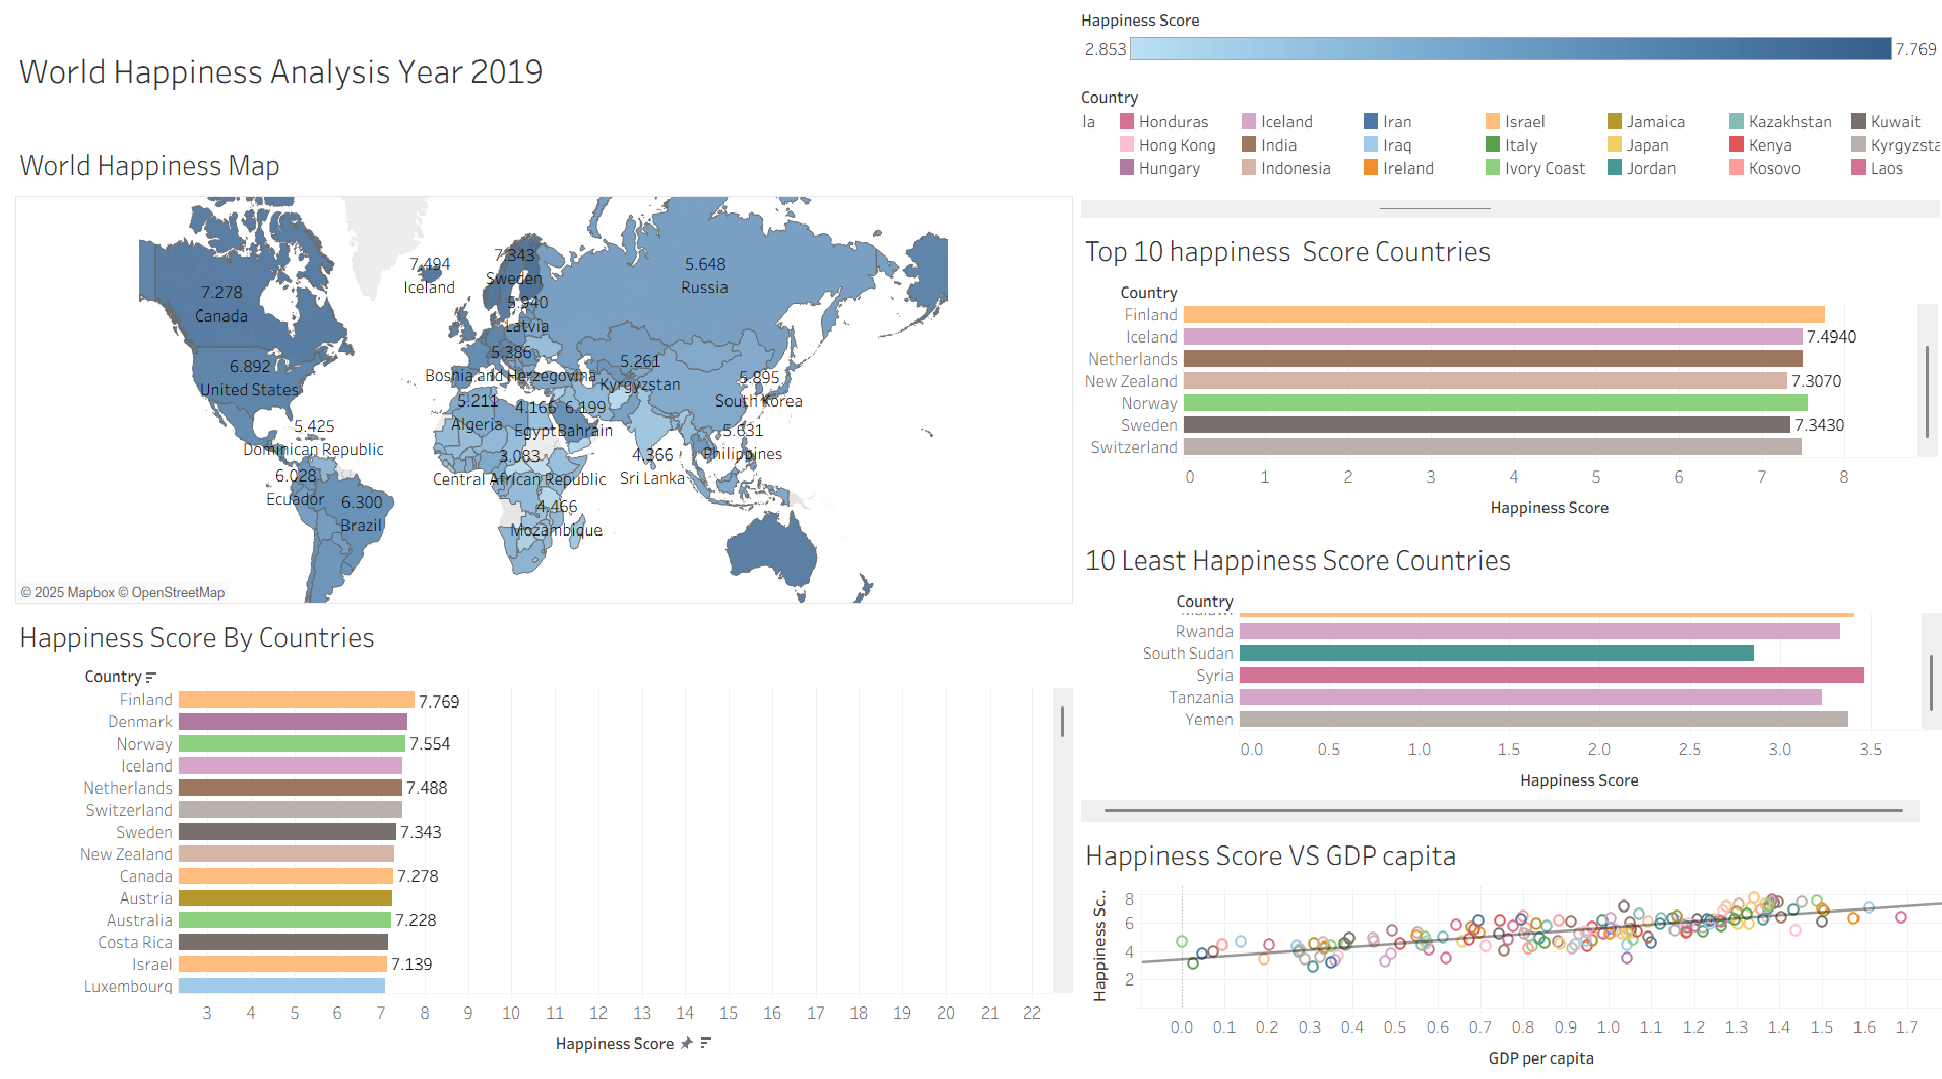

The dashboard page shown, as its layout file describes it:
{"tool":"tableau","page":{"name":"World Happiness Analysis Year 2019","canvas":[1000,1000],"units":"permille","ordinal":0},"visuals":[{"type":"title","box":[5.1,8.9,444.9,133.3]},{"type":"legend","title":"World Happiness Map","param":"[federated.06pk2l41x7hu8f13cmbru0wqkynz].[sum:Happiness Score:qk]","box":[450,8.9,544.9,77.8]},{"type":"legend","title":"Happiness Score VS GDP capita","param":"[federated.06pk2l41x7hu8f13cmbru0wqkynz].[none:Country :nk]","box":[450,86.7,544.9,121.6]},{"type":"worksheet","title":"World Happiness Map","mark":"Automatic","box":[5.1,142.2,444.9,423.9]},{"type":"worksheet","title":"Top 10 happiness  Score Countries","mark":"Automatic","rows":["Country "],"cols":["Happiness Score"],"box":[450,208.3,544.9,311.1]},{"type":"worksheet","title":"10 Least Happiness Score Countries","mark":"Automatic","rows":["Country "],"cols":["Happiness Score"],"box":[450,519.4,544.9,297.8]},{"type":"worksheet","title":"Happiness Score By Countries","mark":"Automatic","rows":["Country "],"cols":["Happiness Score"],"box":[5.1,566.1,444.9,425]},{"type":"worksheet","title":"Happiness Score VS GDP capita","mark":"Automatic","rows":["Happiness Score"],"cols":["GDP per capita"],"box":[450,817.2,544.9,173.9]}]}

Visuals, with their boxes on the dashboard's canvas, which has no fixed pixel size, in thousandths of its width and height (x1, y1, x2, y2). These are canvas units, not pixel positions in the 1942x1079 screenshot, which may show the page scaled, cropped or inside an application window:
title: (5,9,450,142)
"World Happiness Map" legend: (450,9,995,87)
"Happiness Score VS GDP capita" legend: (450,87,995,208)
"World Happiness Map" worksheet: (5,142,450,566)
"Top 10 happiness  Score Countries" worksheet: (450,208,995,519)
"10 Least Happiness Score Countries" worksheet: (450,519,995,817)
"Happiness Score By Countries" worksheet: (5,566,450,991)
"Happiness Score VS GDP capita" worksheet: (450,817,995,991)
